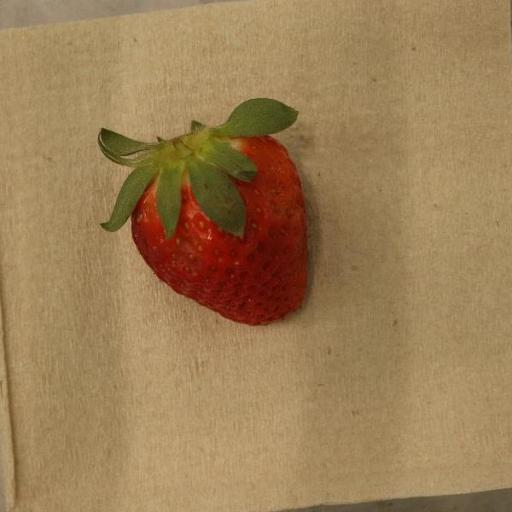Strawberry: (98, 98, 308, 328)
